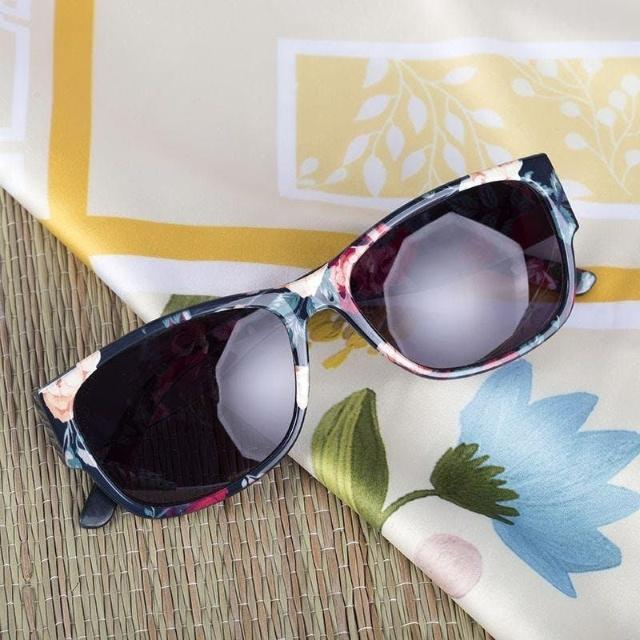Sunglasses: (3, 96, 624, 554)
